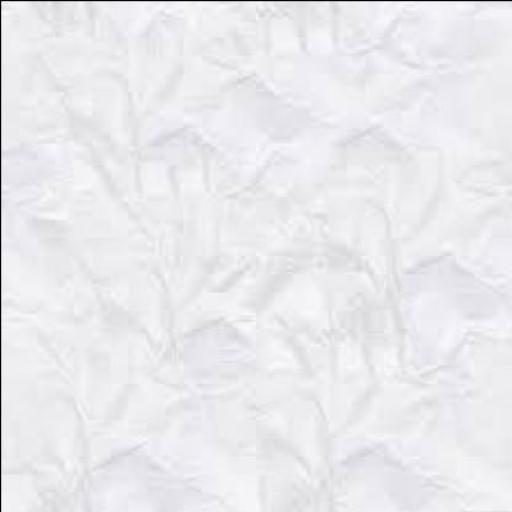paper: (1, 1, 510, 510)
